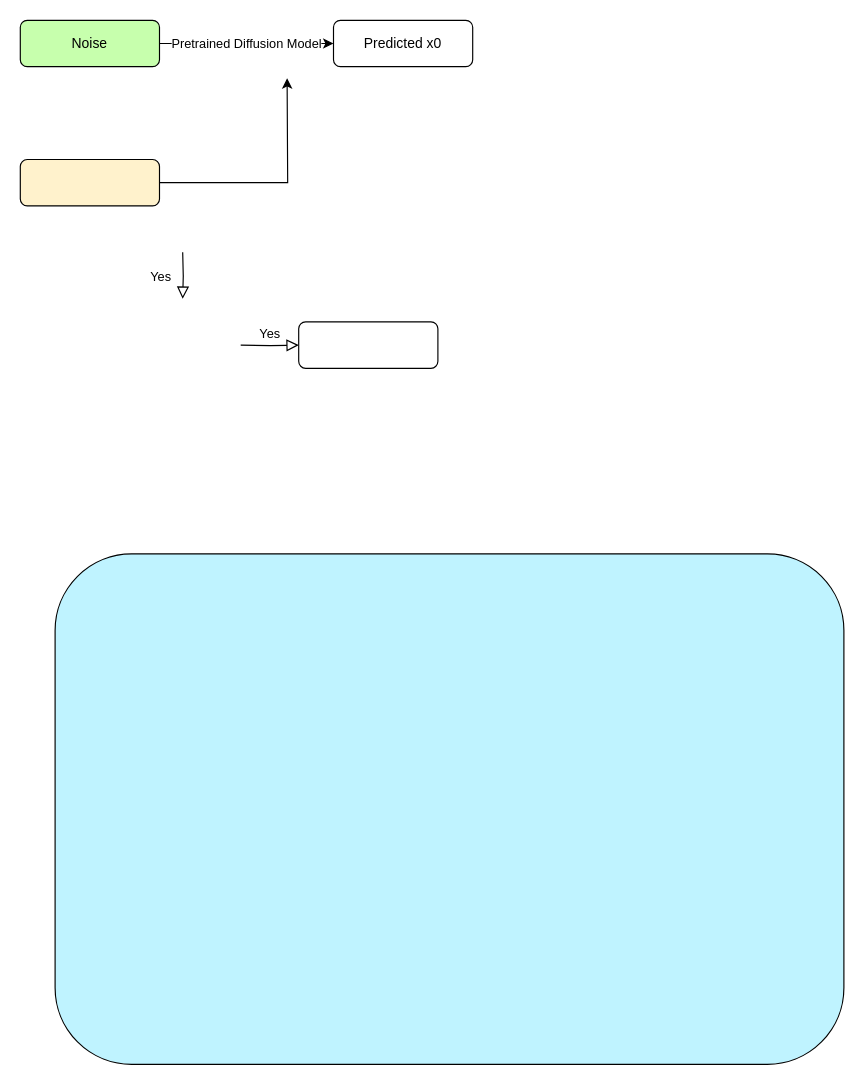
This 864x1085 diagram has some shape labels left out. The centre of each missing label's shape, as x and y in pixels:
"Control Signal" goes at pixel 89 182.
"Replace Bulb" goes at pixel 368 344.
